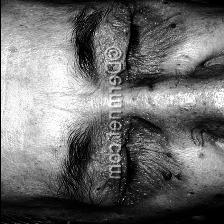Non-Cancerous Skin Condition: (130, 122, 156, 194), (138, 10, 162, 76), (160, 168, 172, 180), (169, 23, 175, 29)
